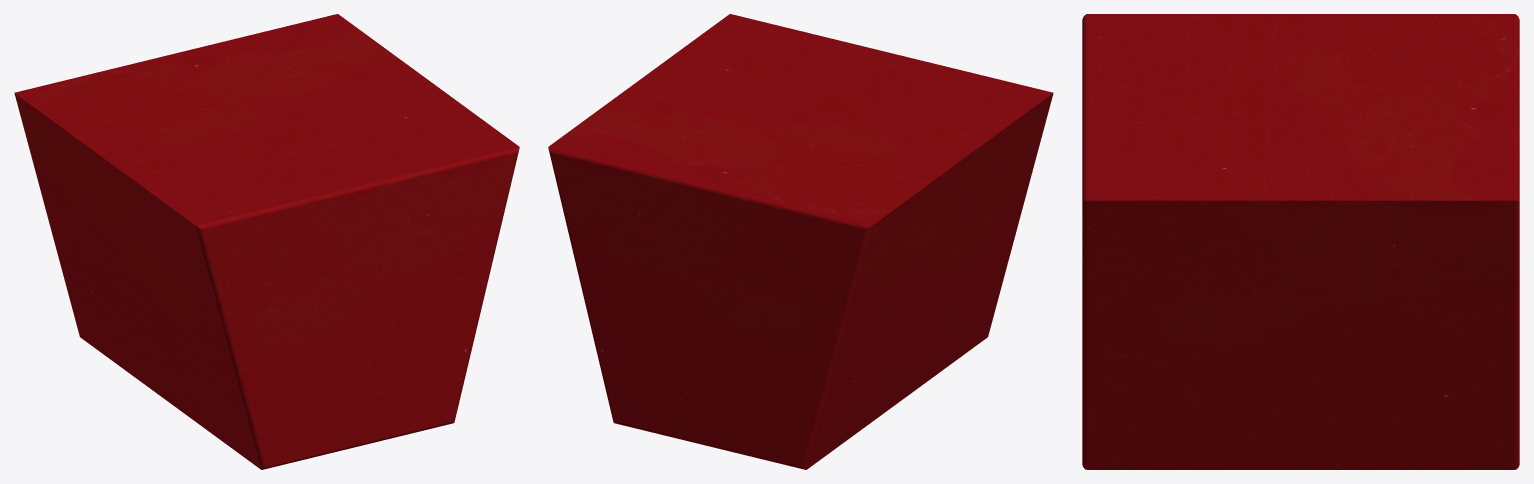
File: trapezoid.glb
3 views of the same model, side by side, from view 1: azimuth 30°, elevation 25°; view 2: azimuth 150°, elevation 25°; view 3: azimuth 270°, elevation 25° (orthographic). The views are drawn at different scales.
Visible parts, largest first — view 1: trapezoid_2; view 2: trapezoid_2; view 3: trapezoid_2.
Part boxes in pixels (left/top/right/bottom): trapezoid_2: left=14, top=14, right=519, bottom=469; trapezoid_2: left=548, top=14, right=1053, bottom=469; trapezoid_2: left=1082, top=14, right=1519, bottom=469.
Size of the model in its own units: 0.0404 by 0.031 by 0.04.
Materials: 1 (1 with a texture image).
